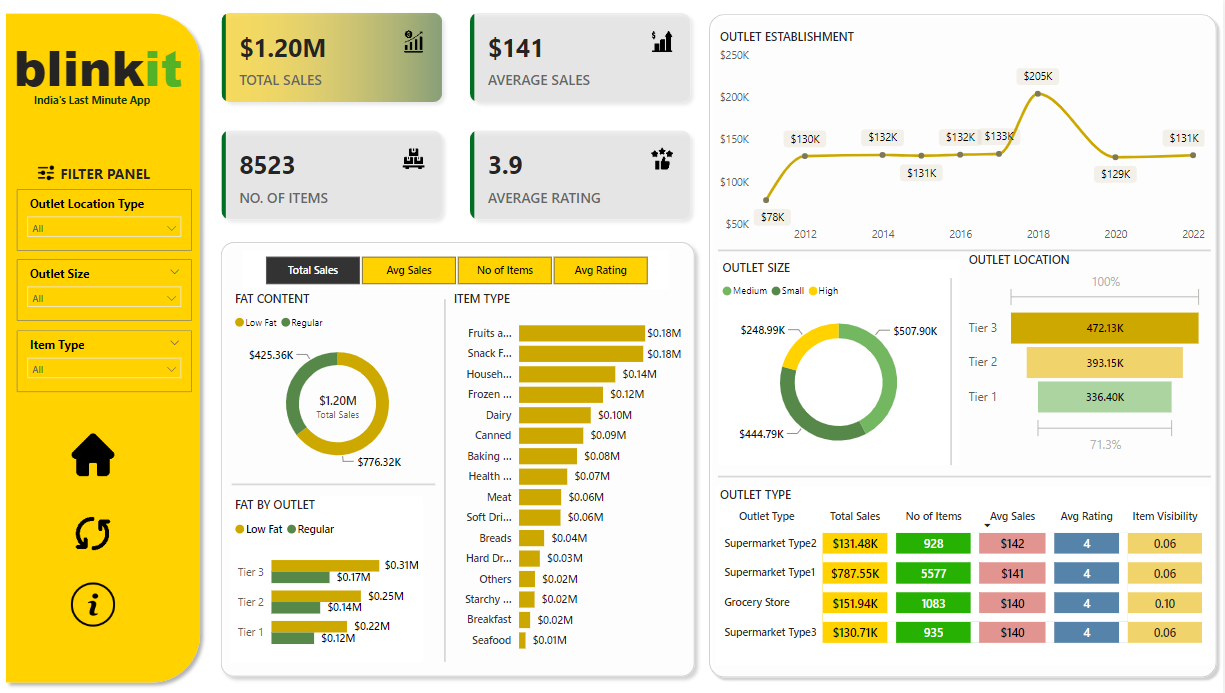

What the dashboard file says about the page in this screenshot:
{"tool":"powerbi","page":{"name":"Page 1","canvas":[1400,800],"ordinal":0},"visuals":[{"type":"shape","box":[0,8.6,240,782.9],"z":0},{"type":"textbox","box":[35,102,153,29],"z":1000},{"type":"cardVisual","fields":{"Data":["BlinkIT Grocery Data.Total Sales","BlinkIT Grocery Data.Avg Sales","BlinkIT Grocery Data.No of Items","BlinkIT Grocery Data.Avg Rating"]},"box":[238.3,0,570,270],"z":2000},{"type":"shape","box":[246.4,269.6,559.4,514.5],"z":3000},{"type":"donutChart","title":"FAT CONTENT","fields":{"Y":["BlinkIT Grocery Data.Total Sales"],"Category":["BlinkIT Grocery Data.Item Fat Content"]},"box":[266.2,335,245,213.8],"z":4000},{"type":"slicer","fields":{"Values":["Metrics.Metrics"]},"box":[280,288.3,486.7,45],"z":5000},{"type":"cardVisual","fields":{"Data":["BlinkIT Grocery Data.Total Sales"]},"box":[345,433.8,88.8,60],"z":6000},{"type":"clusteredBarChart","title":"FAT BY OUTLET","fields":{"Y":["BlinkIT Grocery Data.Total Sales"],"Category":["BlinkIT Grocery Data.Outlet Location Type"],"Series":["BlinkIT Grocery Data.Item Fat Content"]},"box":[265.6,570,220,188.9],"z":7000},{"type":"shape","box":[267.5,537.5,232.5,37.5],"z":8000},{"type":"shape","box":[485.7,344.3,50,414.3],"z":9000},{"type":"shape","box":[806,12,594,772],"z":10000},{"type":"lineChart","title":"OUTLET ESTABLISHMENT","fields":{"Category":["BlinkIT Grocery Data.Outlet Establishment Year"],"Y":["BlinkIT Grocery Data.Total Sales"]},"box":[820,34,564,254],"z":11000},{"type":"shape","box":[822.8,269.6,563,37],"z":12000},{"type":"donutChart","title":"OUTLET SIZE","fields":{"Y":["BlinkIT Grocery Data.Total Sales"],"Category":["BlinkIT Grocery Data.Outlet Size"]},"box":[822.8,298.9,276.1,235.9],"z":13000},{"type":"shape","box":[1064,320,50,214],"z":14000},{"type":"funnel","title":"OUTLET LOCATION","fields":{"Category":["BlinkIT Grocery Data.Outlet Location Type"],"Y":["Sum(BlinkIT Grocery Data.Sales)"]},"box":[1104,290,278,236],"z":15000},{"type":"shape","box":[822.4,528.6,563.3,36.7],"z":16000},{"type":"pivotTable","title":"OUTLET TYPE","fields":{"Rows":["BlinkIT Grocery Data.Outlet Type"],"Values":["BlinkIT Grocery Data.Total Sales","BlinkIT Grocery Data.No of Items","BlinkIT Grocery Data.Avg Sales","BlinkIT Grocery Data.Avg Rating","Avg(BlinkIT Grocery Data.Item Visibility)"]},"box":[820.4,559.2,565.3,204.1],"z":17000},{"type":"clusteredBarChart","title":"ITEM TYPE","fields":{"Y":["BlinkIT Grocery Data.Total Sales"],"Category":["BlinkIT Grocery Data.Item Type"]},"box":[516,334,270,424],"z":18000},{"type":"slicer","fields":{"Values":["BlinkIT Grocery Data.Outlet Location Type"]},"box":[22,218,200,70],"z":19000},{"type":"slicer","fields":{"Values":["BlinkIT Grocery Data.Outlet Size"]},"box":[22,298,200,70],"z":20000},{"type":"slicer","fields":{"Values":["BlinkIT Grocery Data.Item Type"]},"box":[22,380,200,70],"z":21000},{"type":"textbox","box":[55.6,184.4,133.3,33.3],"z":22000},{"type":"image","box":[78.9,492.3,60.3,58.8],"z":23000},{"type":"image","box":[78.9,582.8,60.3,58.8],"z":24000},{"type":"image","box":[79.1,659.4,60,65.7],"z":25000},{"type":"textbox","box":[12.9,34.3,220,97.1],"z":26000},{"type":"image","box":[40,178.6,30,42.9],"z":27000}]}

Visuals, with their boxes in screenshot pixels (x1, y1, x2, y2), scaled from the page's 1400x800 canvas onto the 1225x693 screenshot:
shape: box(0, 7, 210, 686)
textbox: box(31, 88, 164, 113)
cardVisual - BlinkIT Grocery Data.Total Sales x BlinkIT Grocery Data.Avg Sales: box(209, 0, 707, 234)
shape: box(216, 234, 705, 679)
"FAT CONTENT" donutChart: box(233, 290, 447, 475)
slicer - Metrics.Metrics: box(245, 250, 671, 289)
cardVisual - BlinkIT Grocery Data.Total Sales: box(302, 376, 380, 428)
"FAT BY OUTLET" clusteredBarChart: box(232, 494, 425, 657)
shape: box(234, 466, 438, 498)
shape: box(425, 298, 469, 657)
shape: box(705, 10, 1224, 679)
"OUTLET ESTABLISHMENT" lineChart: box(718, 29, 1211, 249)
shape: box(720, 234, 1213, 266)
"OUTLET SIZE" donutChart: box(720, 259, 962, 463)
shape: box(931, 277, 975, 463)
"OUTLET LOCATION" funnel: box(966, 251, 1209, 456)
shape: box(720, 458, 1212, 490)
"OUTLET TYPE" pivotTable: box(718, 484, 1212, 661)
"ITEM TYPE" clusteredBarChart: box(452, 289, 688, 657)
slicer - BlinkIT Grocery Data.Outlet Location Type: box(19, 189, 194, 249)
slicer - BlinkIT Grocery Data.Outlet Size: box(19, 258, 194, 319)
slicer - BlinkIT Grocery Data.Item Type: box(19, 329, 194, 390)
textbox: box(49, 160, 165, 189)
image: box(69, 426, 122, 477)
image: box(69, 505, 122, 556)
image: box(69, 571, 122, 628)
textbox: box(11, 30, 204, 114)
image: box(35, 155, 61, 192)
